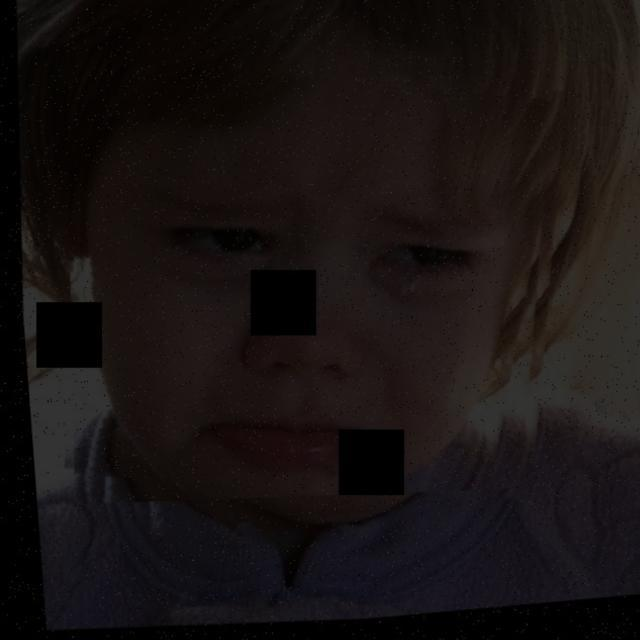Sad: (83, 73, 548, 574)
